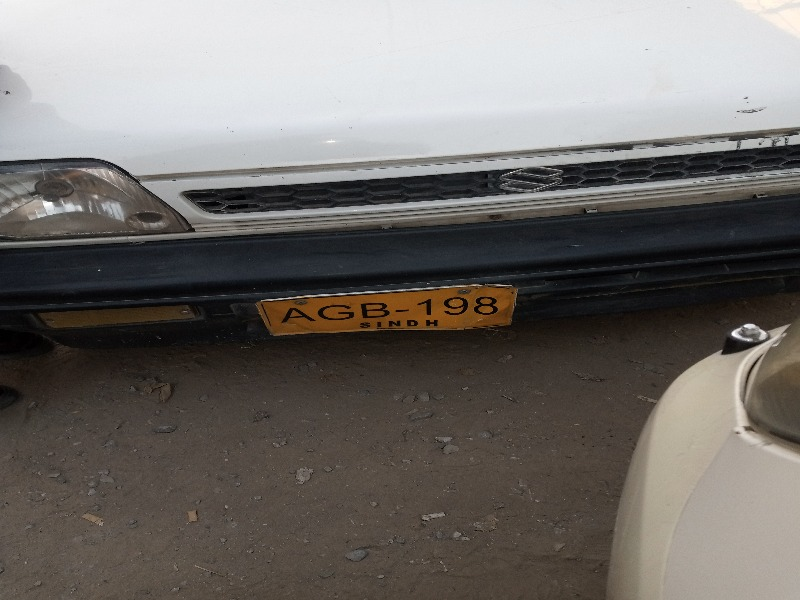License Plate: (247, 279, 522, 344)
